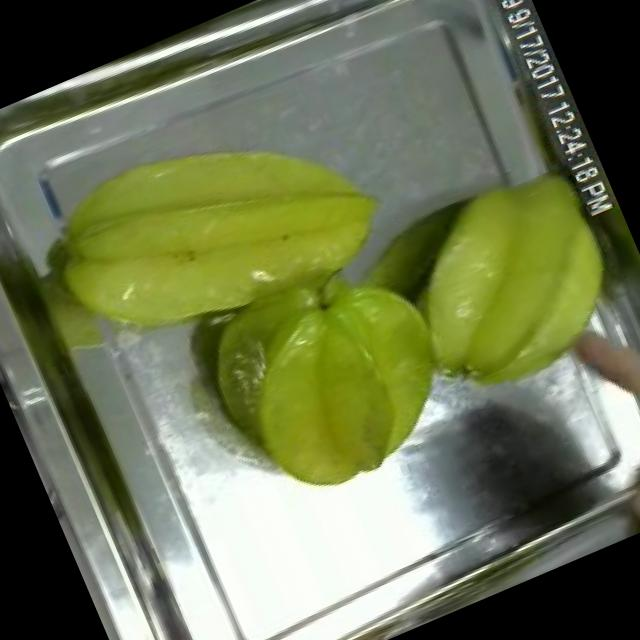fruit: (8, 66, 410, 390), (181, 234, 489, 528), (366, 140, 640, 421), (596, 418, 640, 537)
